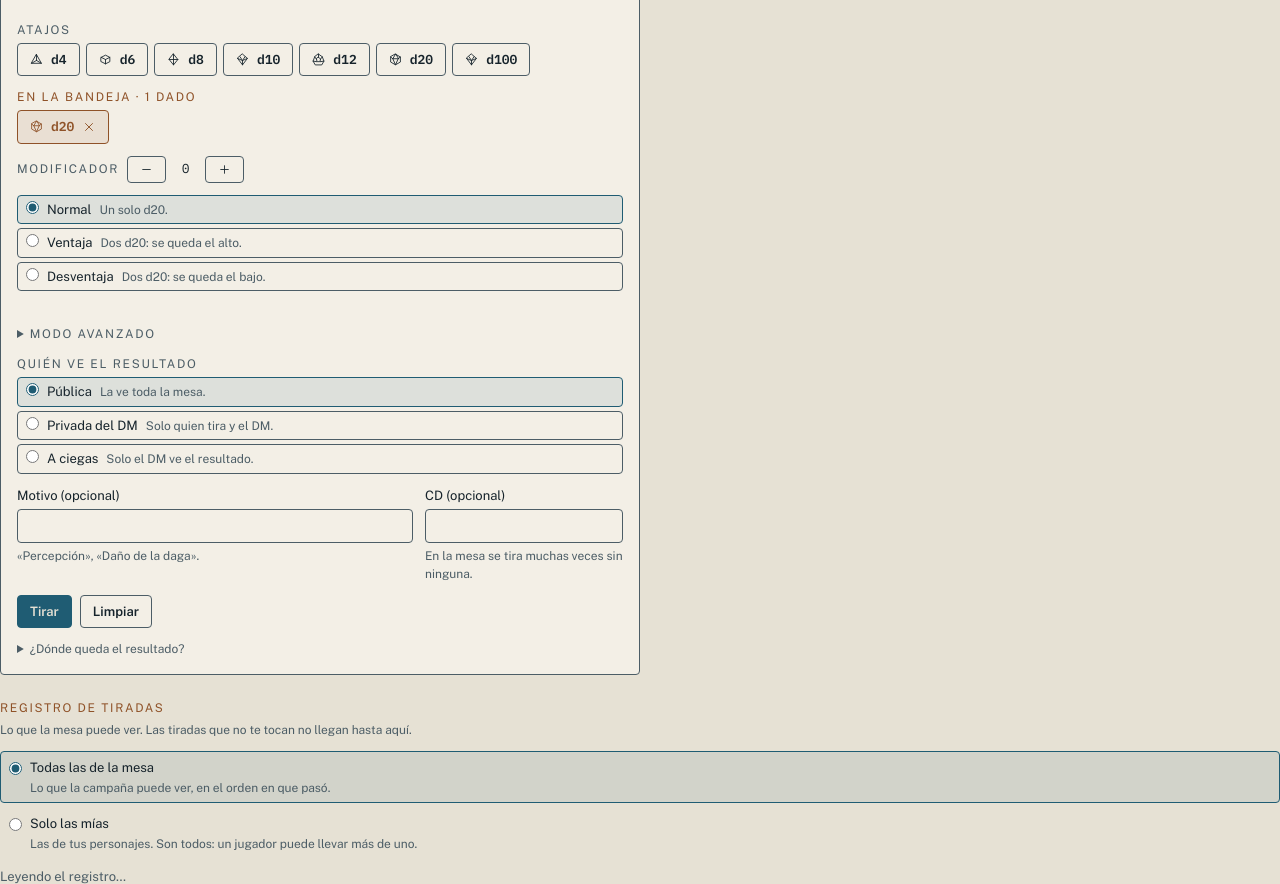
PanelDeDados — tirar › un 400 se pinta legible junto al campo y retira el resultado anterior
The width and height of the screenshot is (1280, 884).
(page scrolled)
Click the button "Tirar". click: [44, 611]
box: [17,595,72,628]
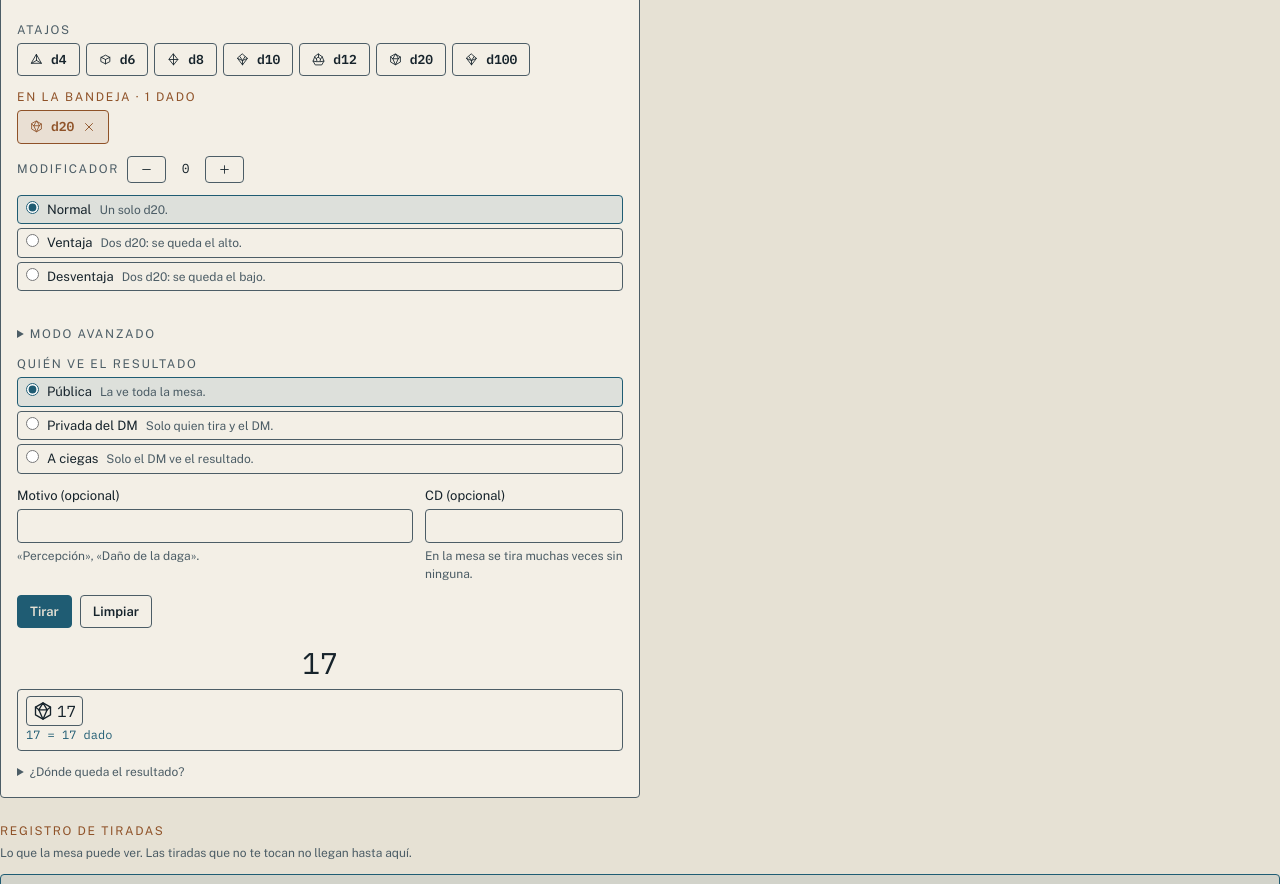
expect the text "17 = 17 dado" is shown: met, box [26,727,112,742]
# Task 10 — mismo motivo que arriba: se abre «Modo avanzado» antes de escribir encima.
Click the heading "Modo avanzado". click: [93, 334]
box: [30,327,156,341]
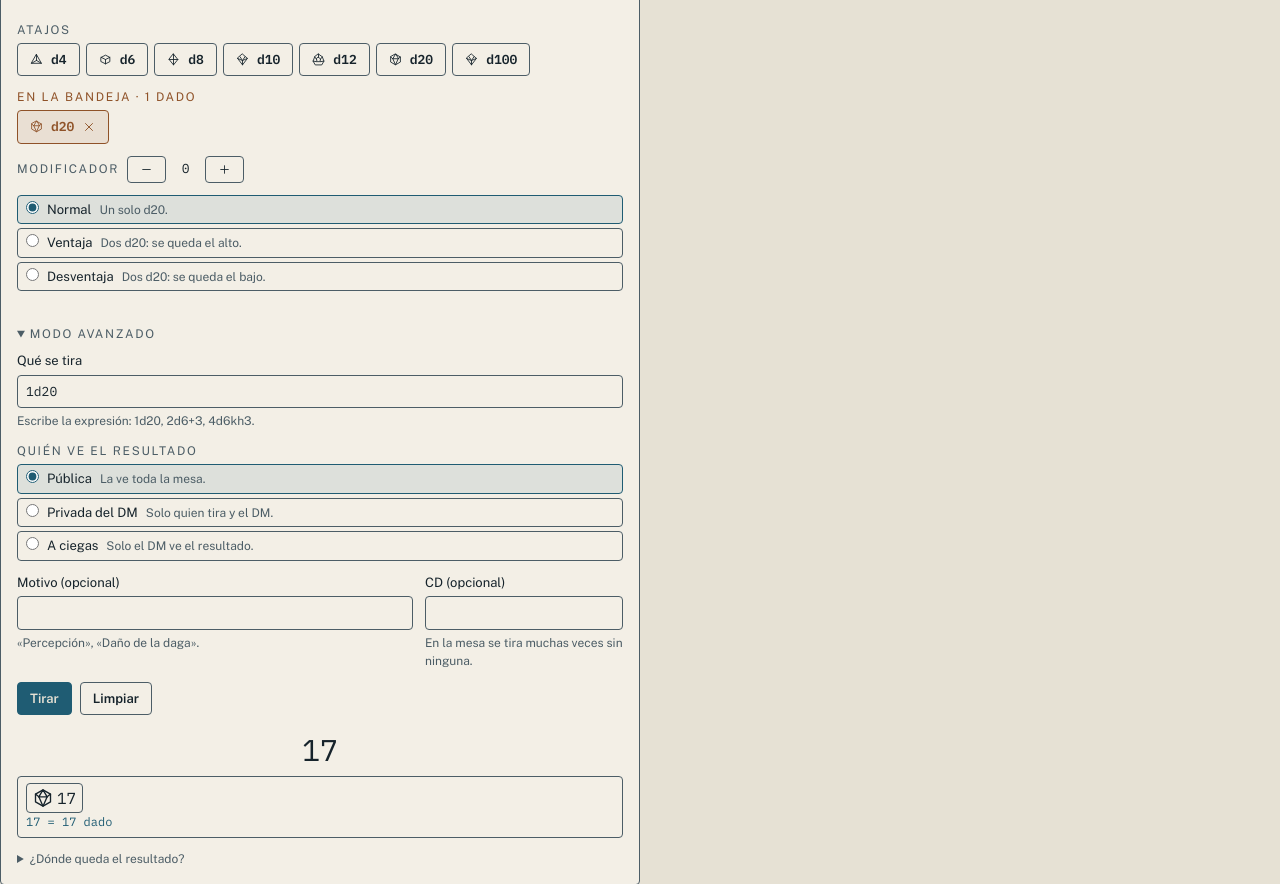
Replace the text in the field labelled "Qué se tira" with "1d20++". click: [320, 391]
box: [17,375,623,408]
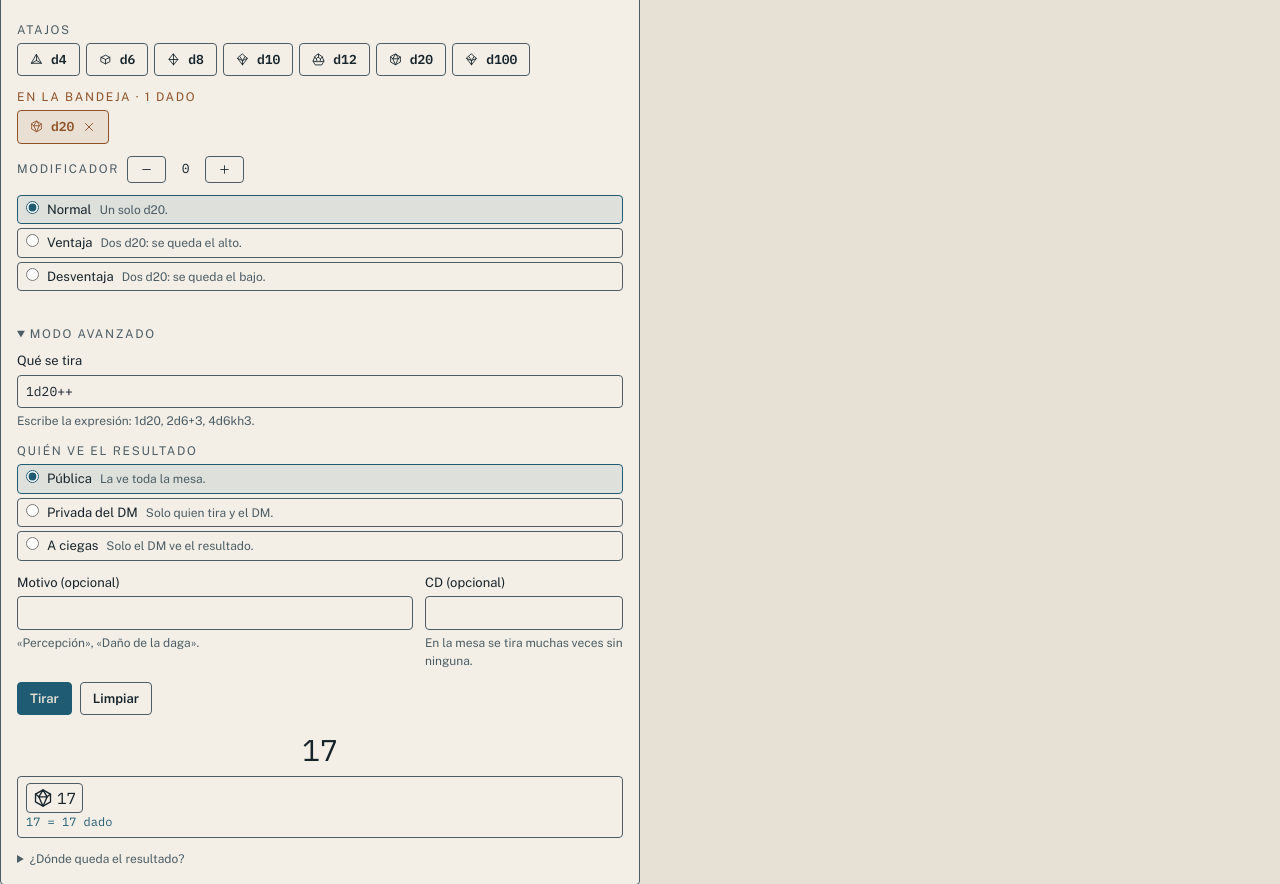
Click the button "Tirar". click: [44, 698]
box: [17,682,72,715]
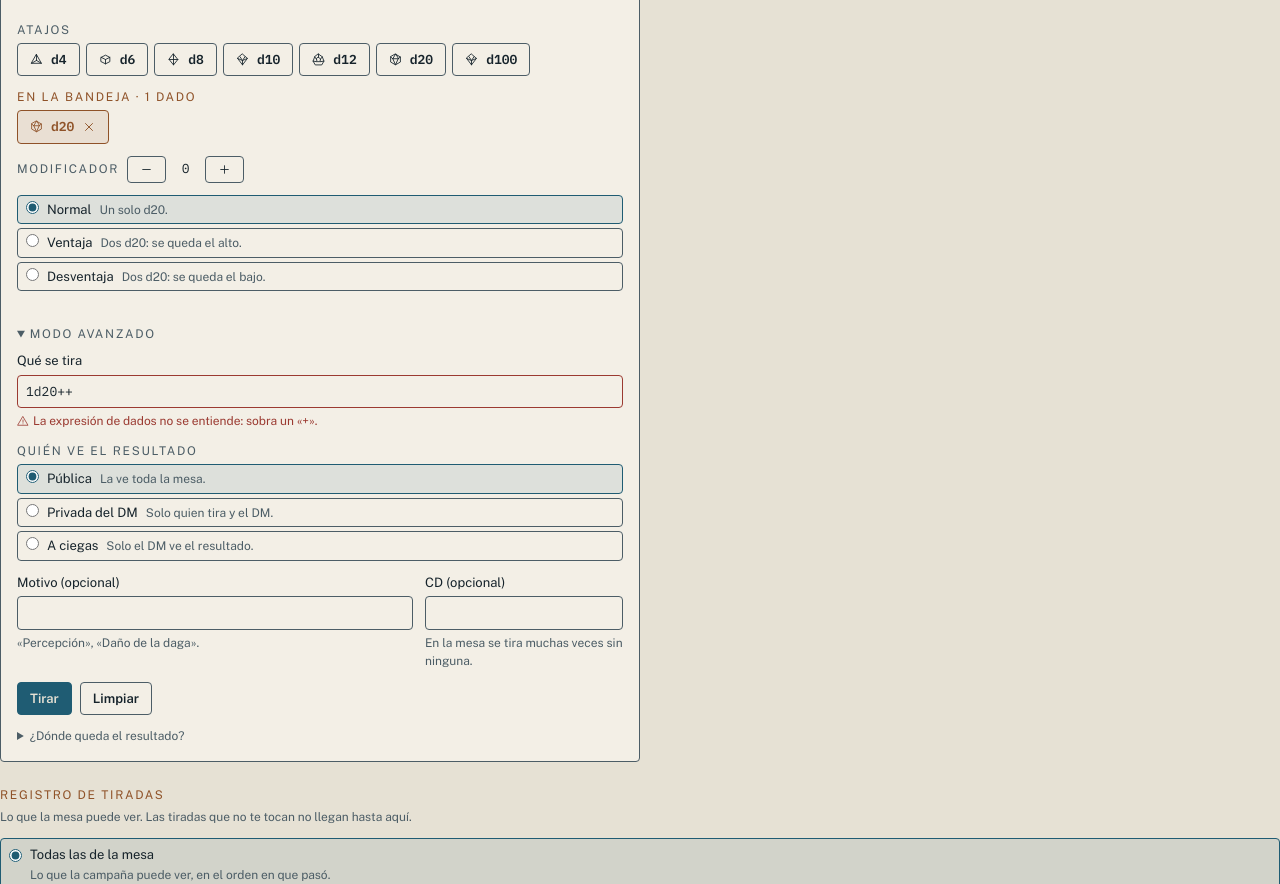
expect the message reads "La expresión de dados no se entiende: sobra un «+».": met, box [33,414,318,428]
expect the text "17 = 17 dado" is gone: met
